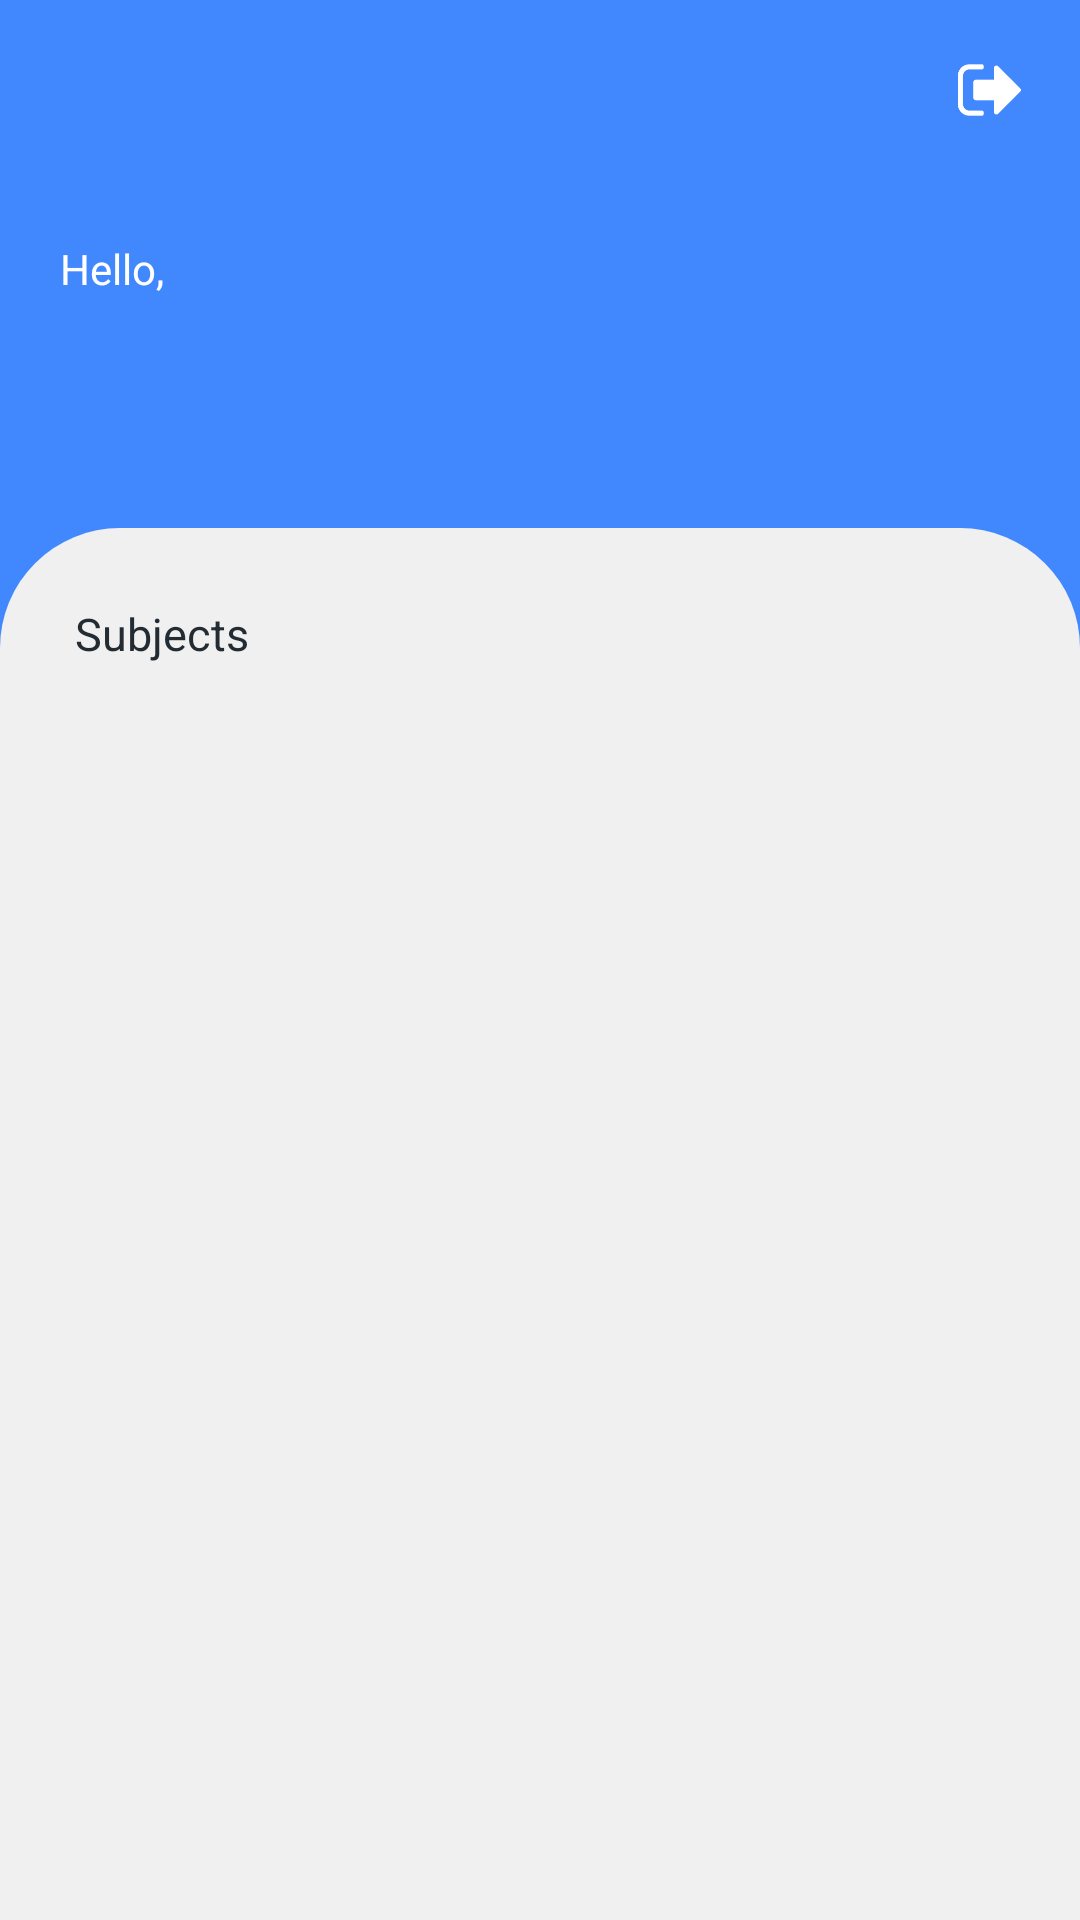

Icon bounding boxes for this 1080×1920 phone screenshot, format (x1, y1, x2, y2):
signout: (958, 64, 1021, 116)
